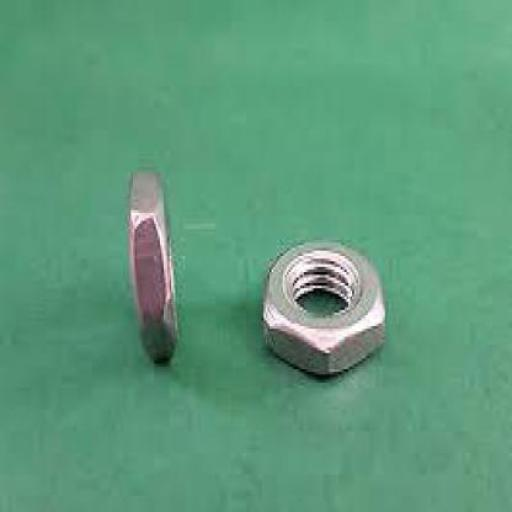Nut: (261, 240, 388, 377), (127, 169, 178, 365)
